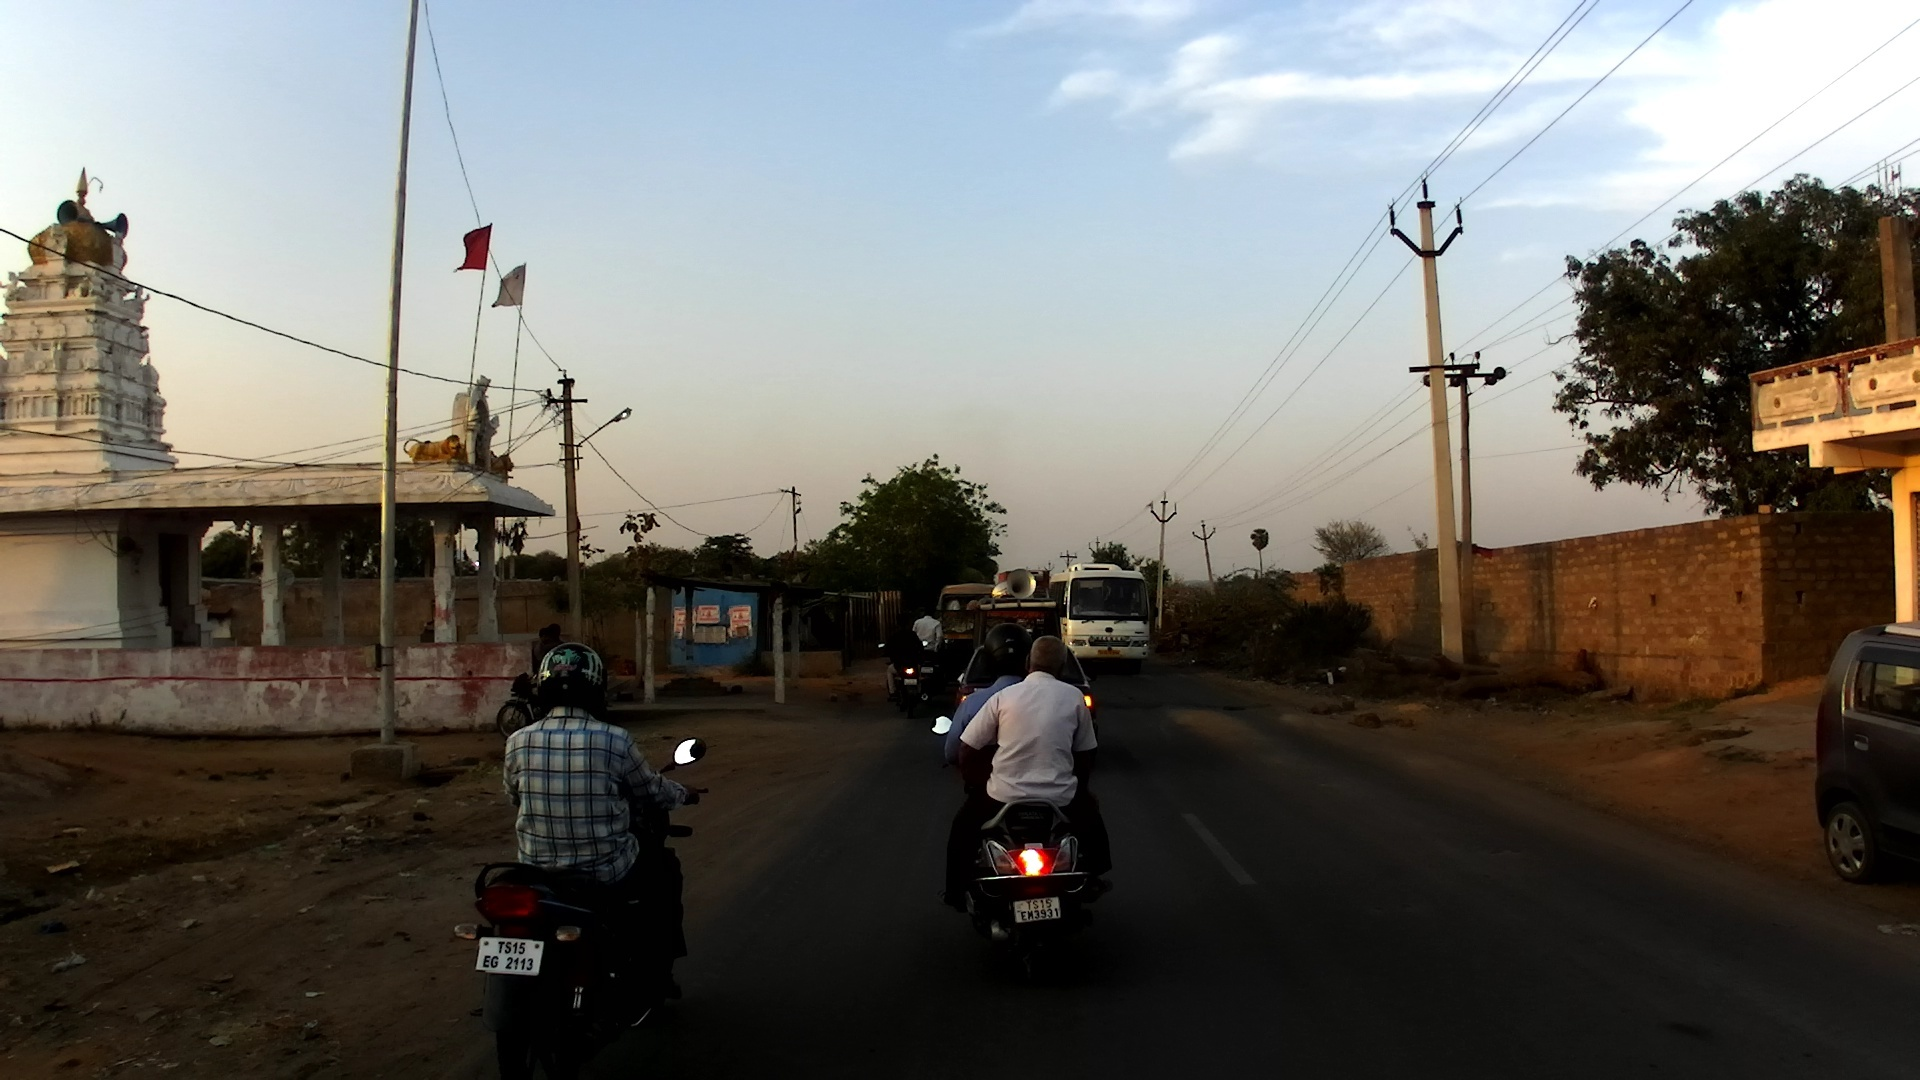bus: (1046, 564, 1148, 681)
car: (1811, 622, 1920, 886), (952, 639, 1096, 767), (990, 568, 1058, 657)
motorcycle: (450, 733, 711, 1077), (927, 711, 1113, 959), (490, 672, 613, 747), (882, 640, 943, 721), (919, 636, 956, 670)
person: (537, 627, 554, 679), (547, 623, 563, 647)
rider: (502, 644, 701, 1003), (955, 633, 1113, 923), (945, 622, 1038, 803), (881, 609, 925, 701), (912, 607, 943, 664)
vehicle fallback: (935, 581, 998, 669)
